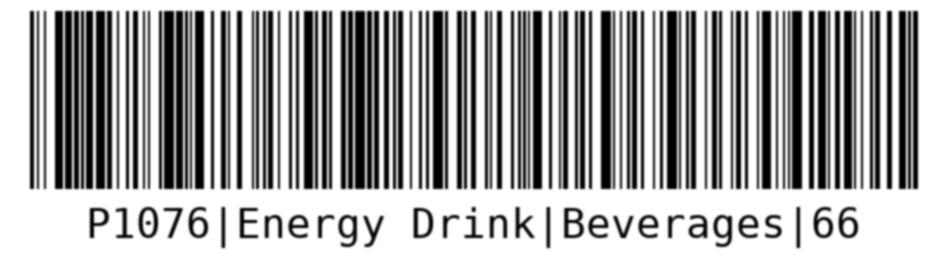milk: (19, 7, 932, 257)
